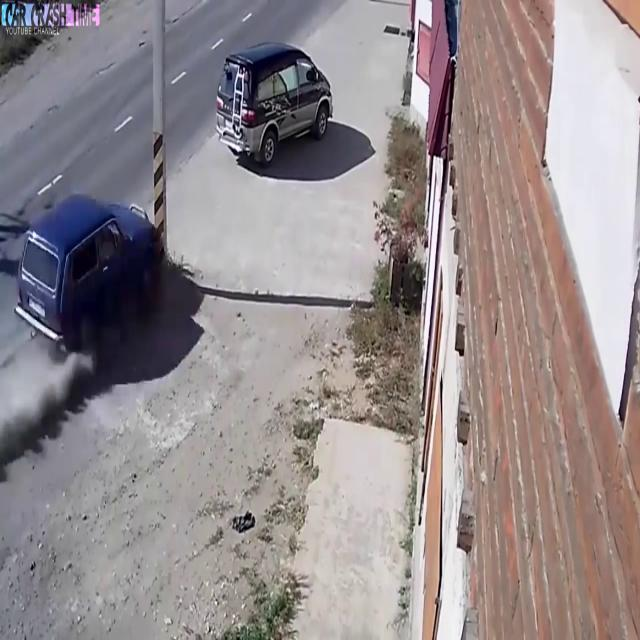Accident: (10, 141, 189, 324)
